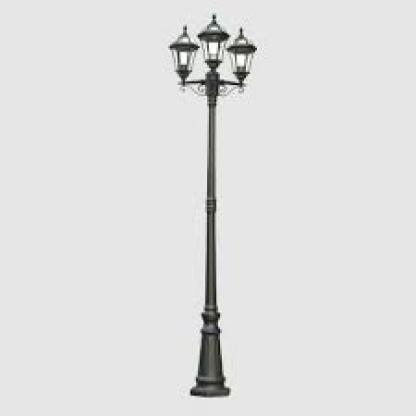light_pole: (170, 13, 259, 396)
